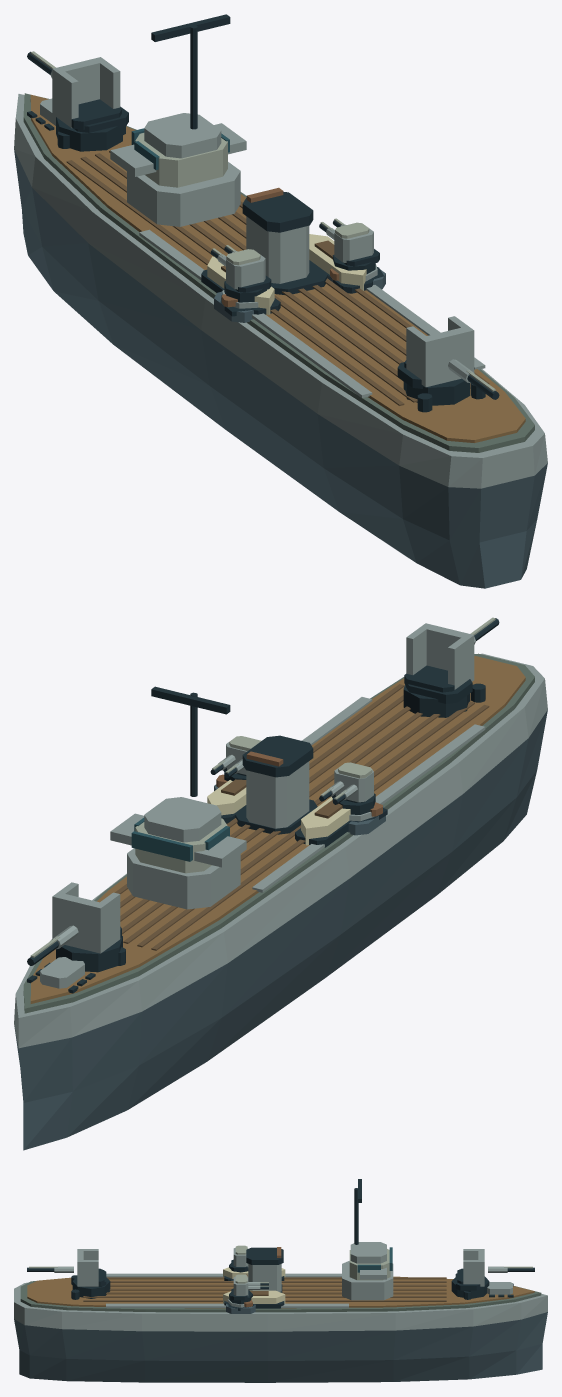
The model's file is historic-yat-sen.glb.
3 renders of one model, top to bottom at view 1: azimuth 30°, elevation 25°; view 2: azimuth 150°, elevation 25°; view 3: azimuth 270°, elevation 25°, orthographic. The views are drawn at different scales.
Parts seen in each view (by area): view 1: historic-yat-sen-historic-yat-sen-geometry, historic-yat-sen-part_bridge.050-geometry, historic-yat-sen-turret_main_0.040-geometry, historic-yat-sen-historic_funnel_0.051-geometry, historic-yat-sen-turret_main_1.039-geometry, historic-yat-sen-turret_aa_aa-port.052-geometry, historic-yat-sen-turret_aa_aa-starboard.050-geometry; view 2: historic-yat-sen-historic-yat-sen-geometry, historic-yat-sen-part_bridge.050-geometry, historic-yat-sen-turret_main_1.039-geometry, historic-yat-sen-historic_funnel_0.051-geometry, historic-yat-sen-turret_main_0.040-geometry, historic-yat-sen-turret_aa_aa-port.052-geometry, historic-yat-sen-turret_aa_aa-starboard.050-geometry; view 3: historic-yat-sen-historic-yat-sen-geometry, historic-yat-sen-part_bridge.050-geometry, historic-yat-sen-turret_main_1.039-geometry, historic-yat-sen-turret_main_0.040-geometry, historic-yat-sen-historic_funnel_0.051-geometry, historic-yat-sen-turret_aa_aa-starboard.050-geometry, historic-yat-sen-turret_aa_aa-port.052-geometry, historic-yat-sen-part_aa-starboard.050-geometry.
Part boxes in pixels (bbox=[...]): historic-yat-sen-historic-yat-sen-geometry: bbox=[14, 93, 547, 588]; historic-yat-sen-part_bridge.050-geometry: bbox=[110, 14, 246, 226]; historic-yat-sen-turret_main_0.040-geometry: bbox=[27, 51, 128, 151]; historic-yat-sen-historic_funnel_0.051-geometry: bbox=[242, 187, 327, 295]; historic-yat-sen-turret_main_1.039-geometry: bbox=[397, 316, 499, 405]; historic-yat-sen-turret_aa_aa-port.052-geometry: bbox=[210, 245, 271, 302]; historic-yat-sen-turret_aa_aa-starboard.050-geometry: bbox=[319, 218, 379, 273]; historic-yat-sen-historic-yat-sen-geometry: bbox=[14, 653, 547, 1150]; historic-yat-sen-part_bridge.050-geometry: bbox=[110, 686, 246, 909]; historic-yat-sen-turret_main_1.039-geometry: bbox=[403, 617, 499, 717]; historic-yat-sen-historic_funnel_0.051-geometry: bbox=[235, 735, 317, 834]; historic-yat-sen-turret_main_0.040-geometry: bbox=[27, 882, 122, 972]; historic-yat-sen-turret_aa_aa-port.052-geometry: bbox=[319, 762, 375, 814]; historic-yat-sen-turret_aa_aa-starboard.050-geometry: bbox=[210, 736, 261, 781]; historic-yat-sen-historic-yat-sen-geometry: bbox=[14, 1267, 547, 1382]; historic-yat-sen-part_bridge.050-geometry: bbox=[342, 1179, 393, 1300]; historic-yat-sen-turret_main_1.039-geometry: bbox=[27, 1249, 110, 1298]; historic-yat-sen-turret_main_0.040-geometry: bbox=[451, 1249, 534, 1298]; historic-yat-sen-historic_funnel_0.051-geometry: bbox=[246, 1247, 283, 1292]; historic-yat-sen-turret_aa_aa-starboard.050-geometry: bbox=[229, 1274, 268, 1304]; historic-yat-sen-turret_aa_aa-port.052-geometry: bbox=[229, 1245, 248, 1272]; historic-yat-sen-part_aa-starboard.050-geometry: bbox=[226, 1299, 255, 1313].
Bounding box in the file's own units: 0.762 × 1.54 × 4.11.
